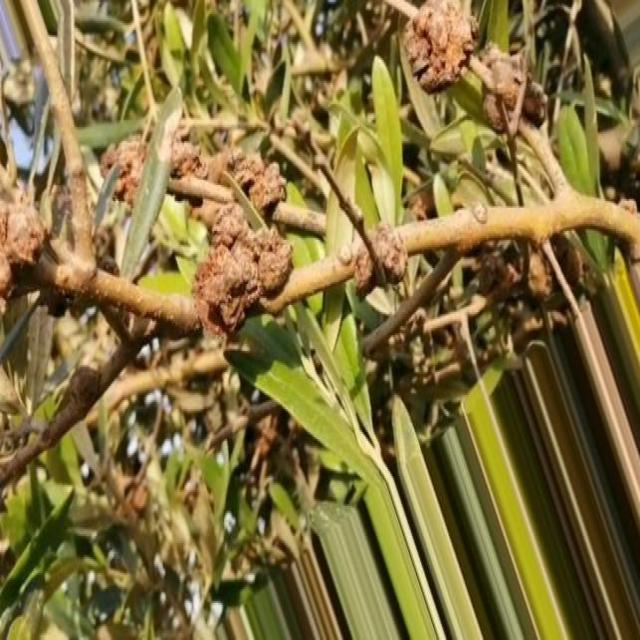Tuberculosis: (192, 202, 292, 338), (402, 0, 476, 93), (0, 189, 49, 298), (345, 223, 406, 294)
